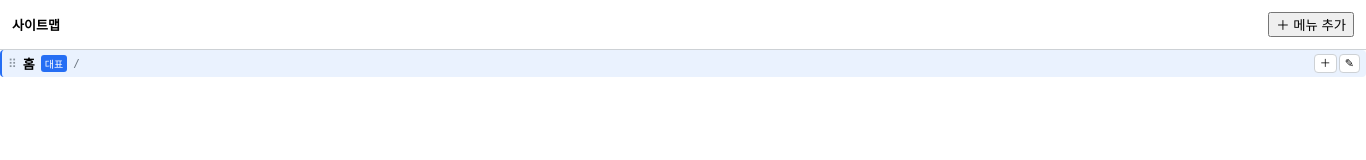
Test: SitemapTree › ＋메뉴 추가하면 새 행이 즉시 편집모드(제목 input)로 뜬다
Click the button "＋ 메뉴 추가" at point(1311, 24), box [1268,12,1354,37]
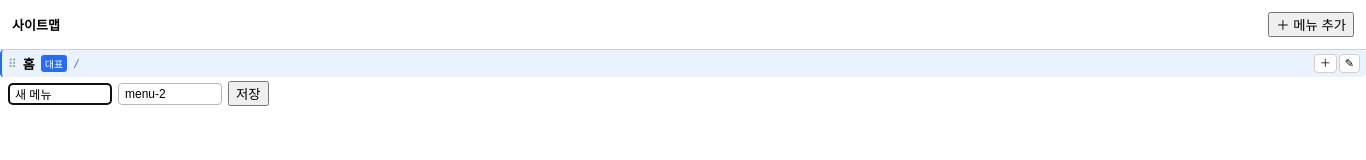
Result: the field named "제목" is shown at [8,82,112,104]
